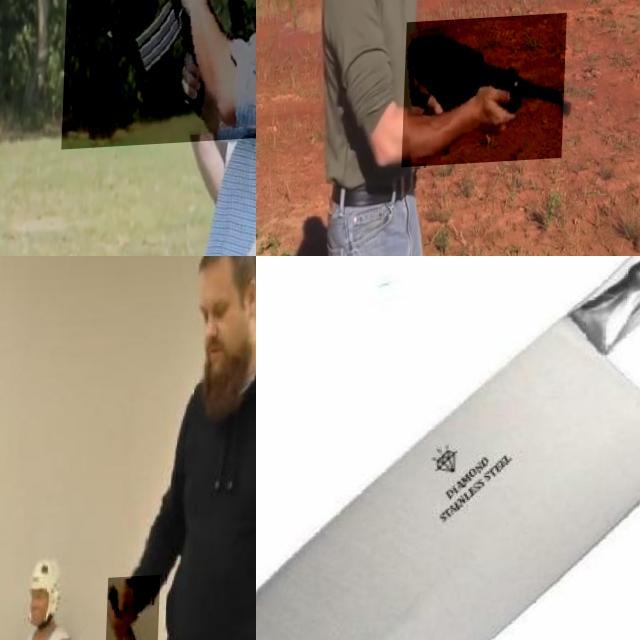-: (256, 341, 640, 640), (107, 578, 163, 640), (256, 256, 272, 300)
gun-knife-thesis - v11 Yolov5 augmented: (64, 0, 256, 191), (405, 18, 569, 170)
